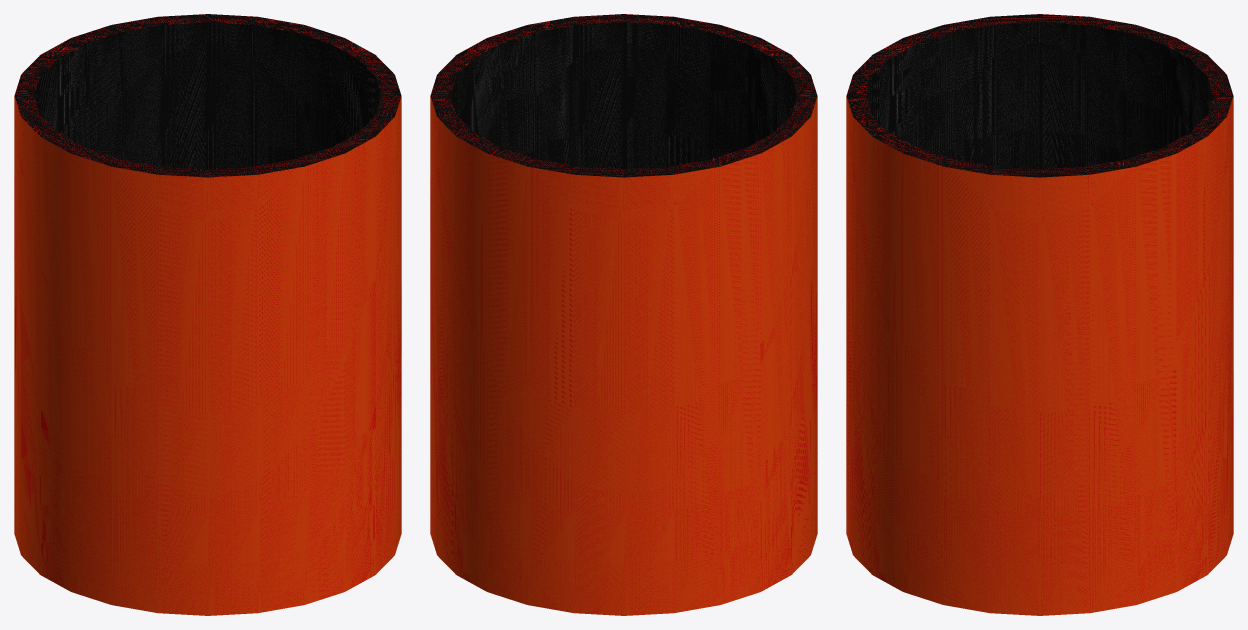
Rendered from cup_03_origin_gt_7.dae.
3 renders of one model, left to right at view 1: azimuth 30°, elevation 25°; view 2: azimuth 150°, elevation 25°; view 3: azimuth 270°, elevation 25°, orthographic.
Parts seen in each view (by area): view 1: Drinking_Cup_Number_2 (×3); view 2: Drinking_Cup_Number_2 (×3); view 3: Drinking_Cup_Number_2 (×3).
Part boxes in pixels (x1,y1,x2,y2): Drinking_Cup_Number_2 (×3): (14,14,401,615); Drinking_Cup_Number_2 (×3): (430,14,817,615); Drinking_Cup_Number_2 (×3): (846,14,1233,615).
Size of the model in its own units: 3.5 by 3.5 by 4.38.
